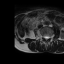CCS_normal: (45, 34, 47, 42)
LFS_normal: (49, 34, 51, 39)
LLS_normal: (47, 34, 49, 40)
RFS_normal: (42, 34, 43, 39)
RLS_normal: (43, 34, 45, 40)
